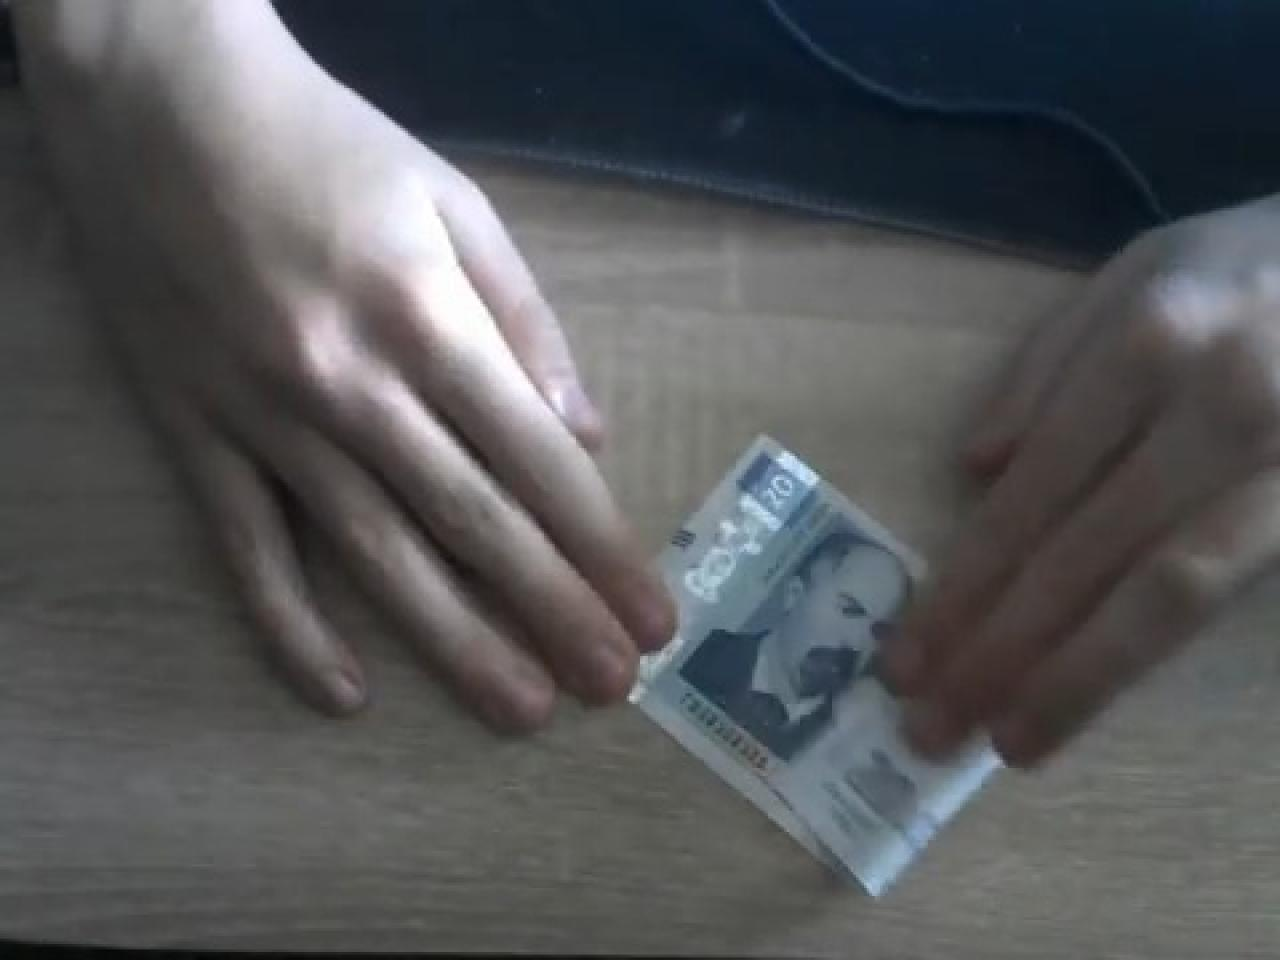20leva: (624, 430, 1005, 895)
